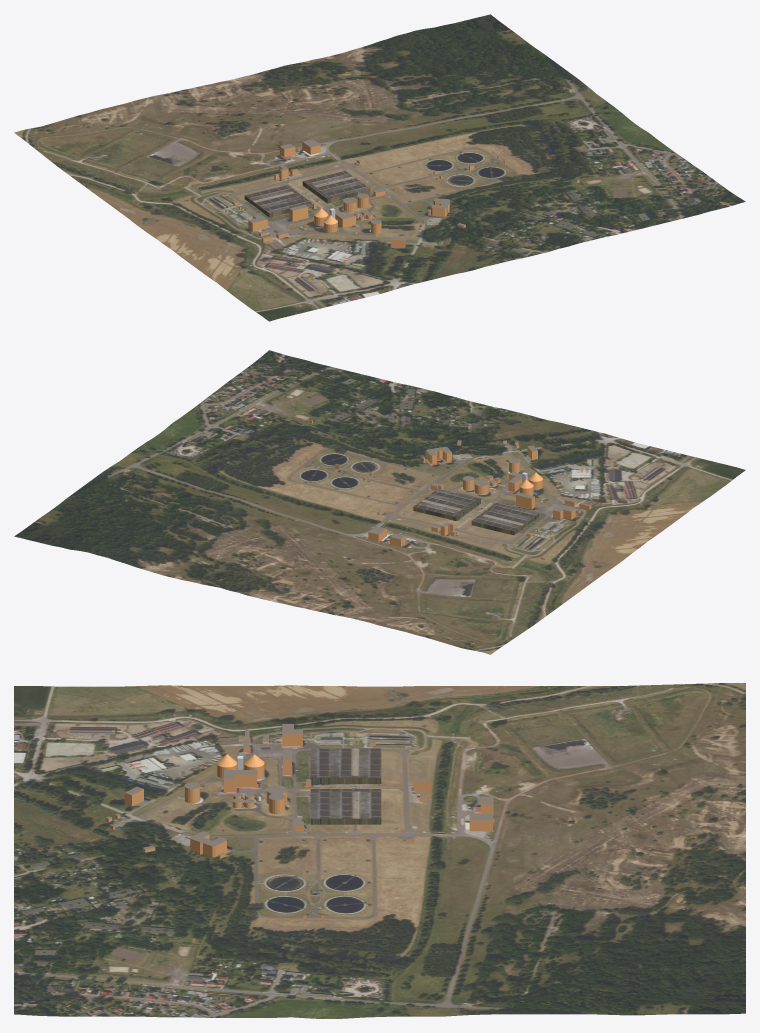
File: gerwisch.gltf
3 views of the same model, one above another, from view 1: azimuth 30°, elevation 25°; view 2: azimuth 150°, elevation 25°; view 3: azimuth 270°, elevation 25° (orthographic). The views are drawn at different scales.
Parts seen in each view (by area): view 1: Terrain, cascade; view 2: Terrain, cascade; view 3: Terrain, cascade, element.012, element.011.
Part boxes in pixels (x1,y1,x2,y2): Terrain: (14,14,745,321); cascade: (244,171,370,217); Terrain: (14,350,745,654); cascade: (413,488,538,534); Terrain: (14,683,745,1018); cascade: (310,748,381,824); element.012: (190,831,226,857); element.011: (224,770,256,791).
Bounding box in the file's own units: 967 × 40.16 × 897.
4 materials, 2 textured.
